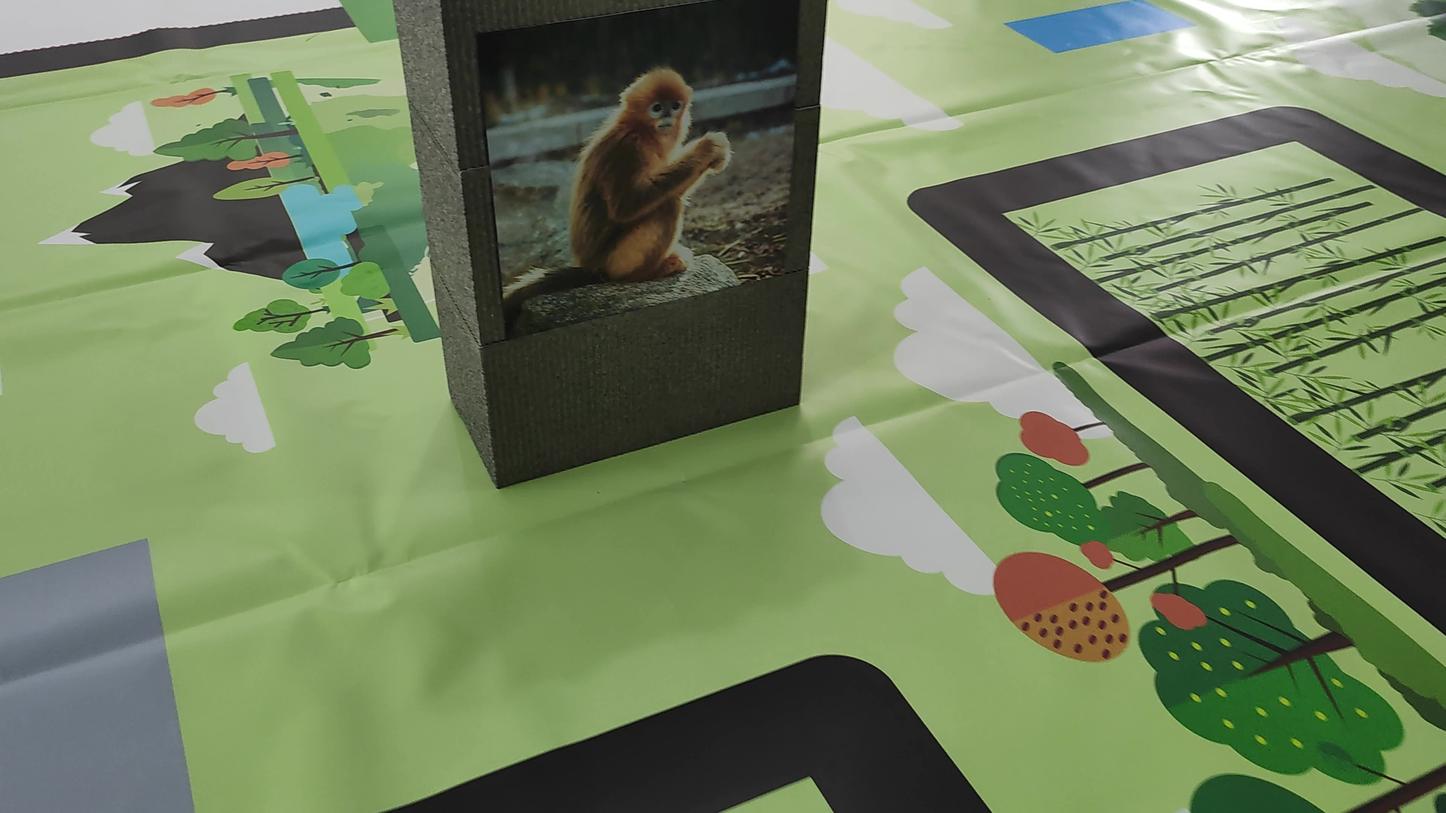monkey: (489, 47, 759, 324)
